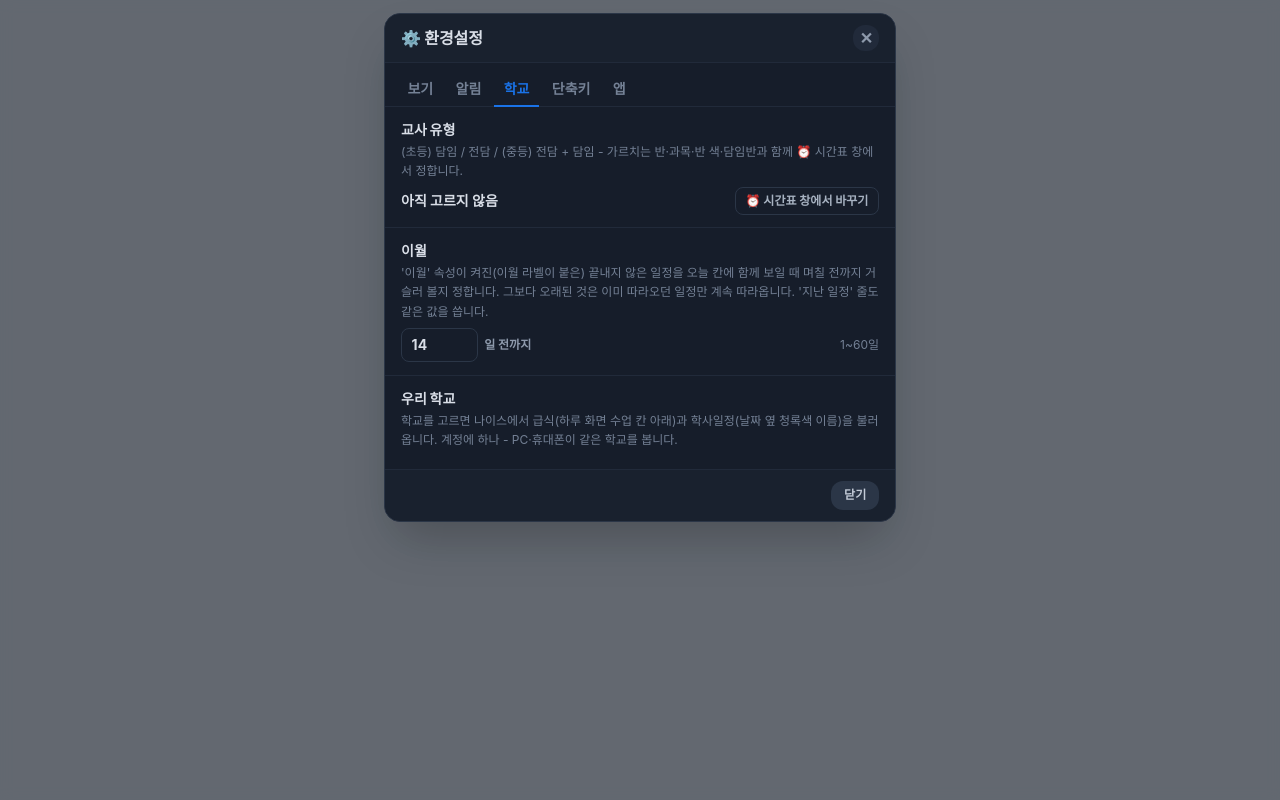
Test case: 환경설정 창 › 학교: 이월 기간 - 1~60일, 적는 즉시 계정 설정에 (칸을 떠나면 범위로 맞춘다)
Step 1. Replace the text in the number field named "이월 기간 (일)" with "30" → {"x": 439, "y": 345}, box left=401, top=328, right=478, bottom=362
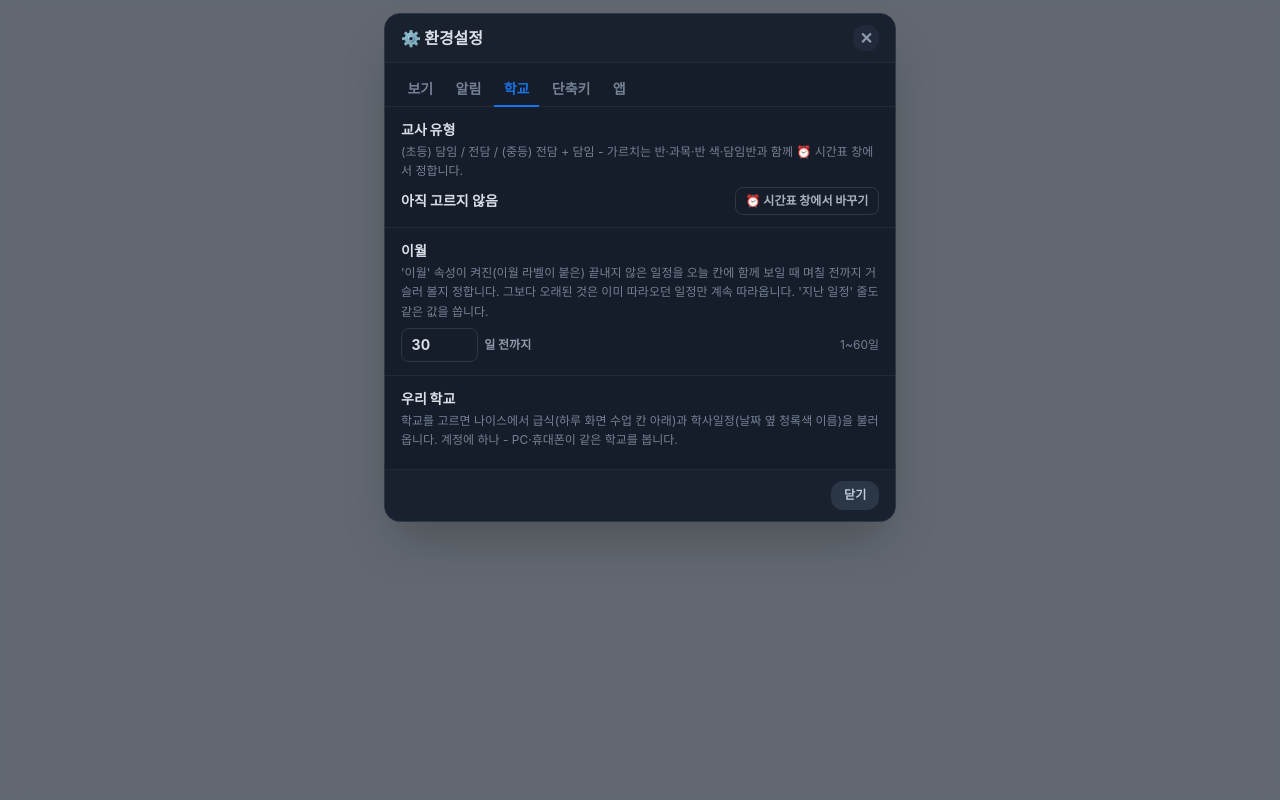
# 지우고 새로 적는 동안은 바꾸지 않는다
Step 2. Clear the number field named "이월 기간 (일)" → {"x": 439, "y": 345}, box left=401, top=328, right=478, bottom=362
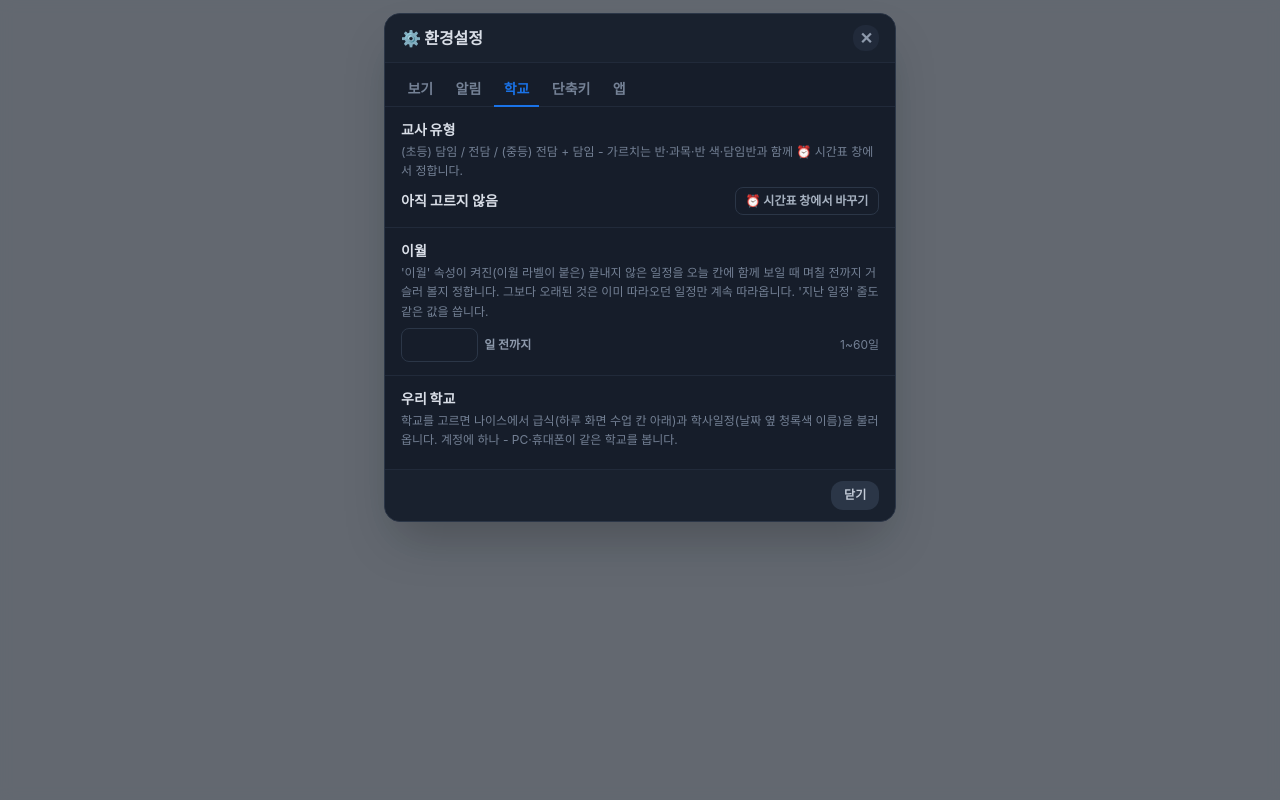
Step 3. Type "99" into the number field named "이월 기간 (일)" → {"x": 439, "y": 345}, box left=401, top=328, right=478, bottom=362
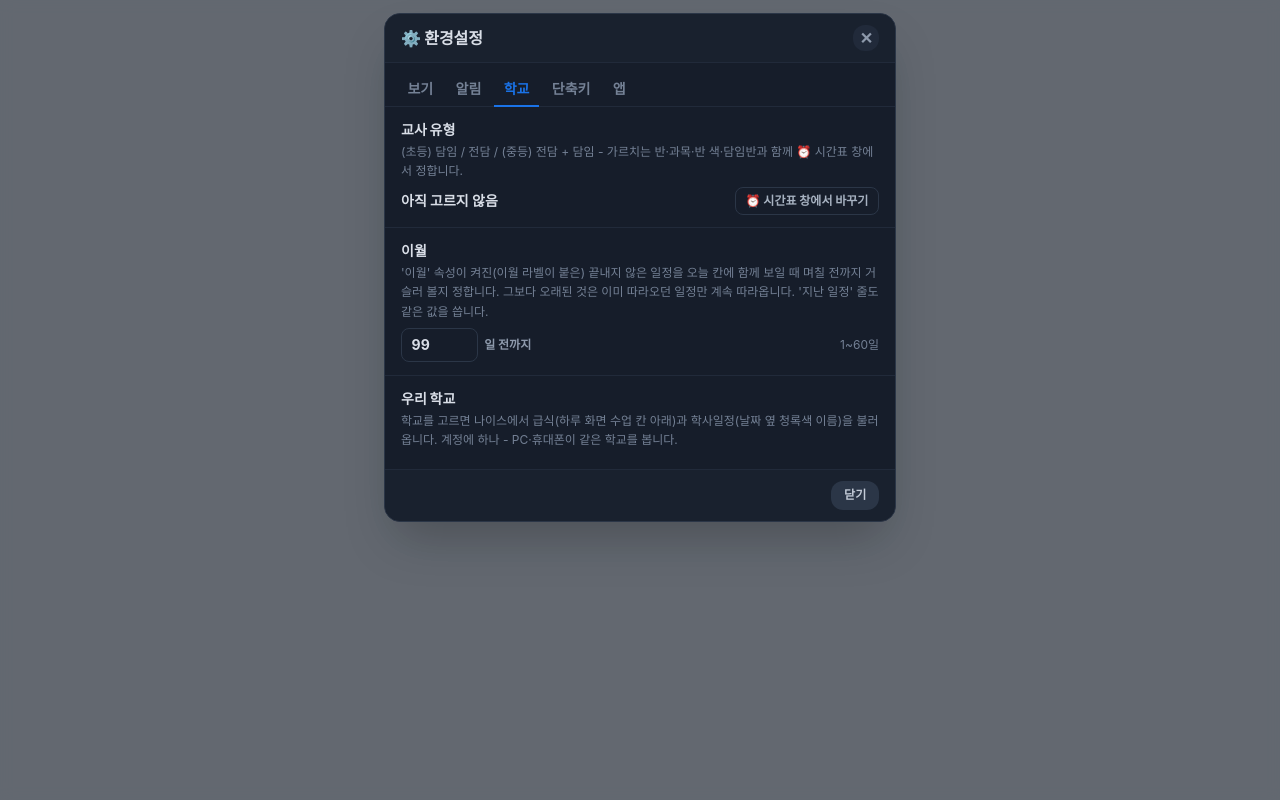
Step 4. Leave the number field named "이월 기간 (일)", box left=401, top=328, right=478, bottom=362
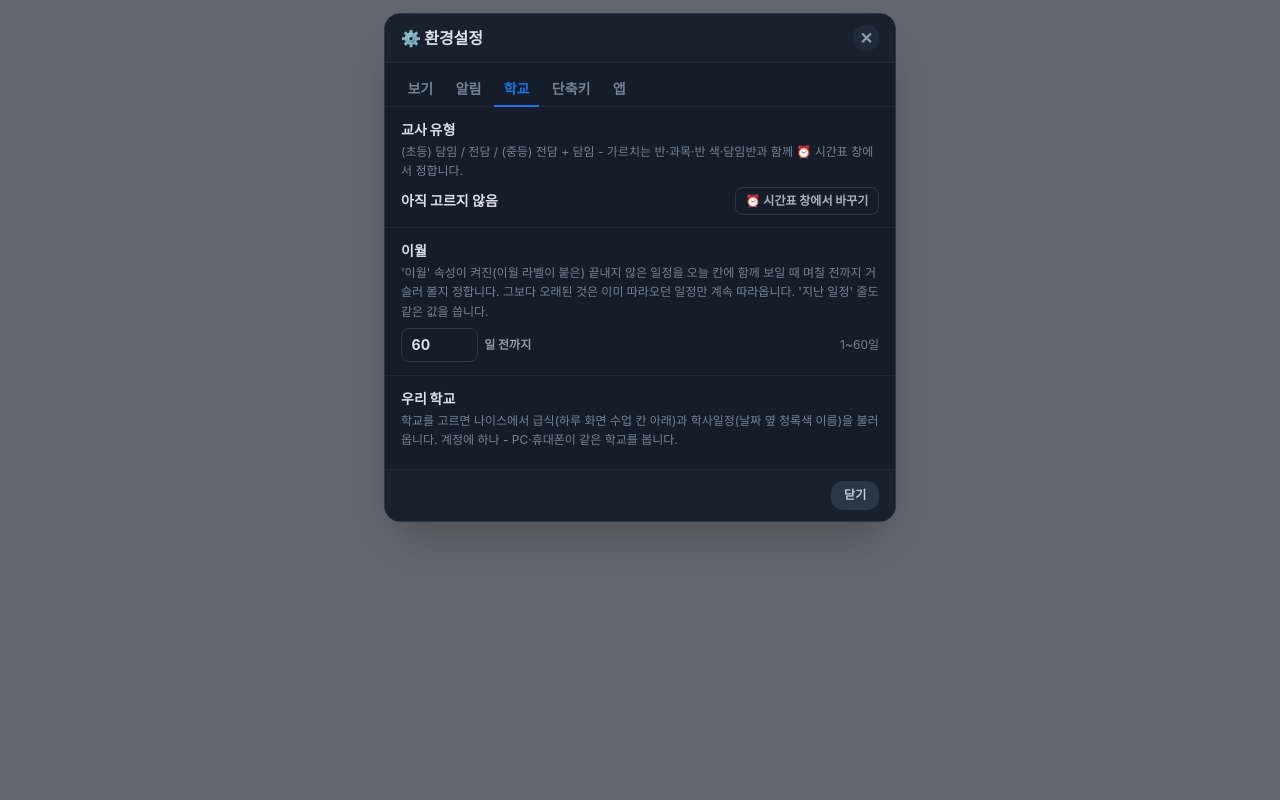
Check: the number field named "이월 기간 (일)" holds "60", box left=401, top=328, right=478, bottom=362
